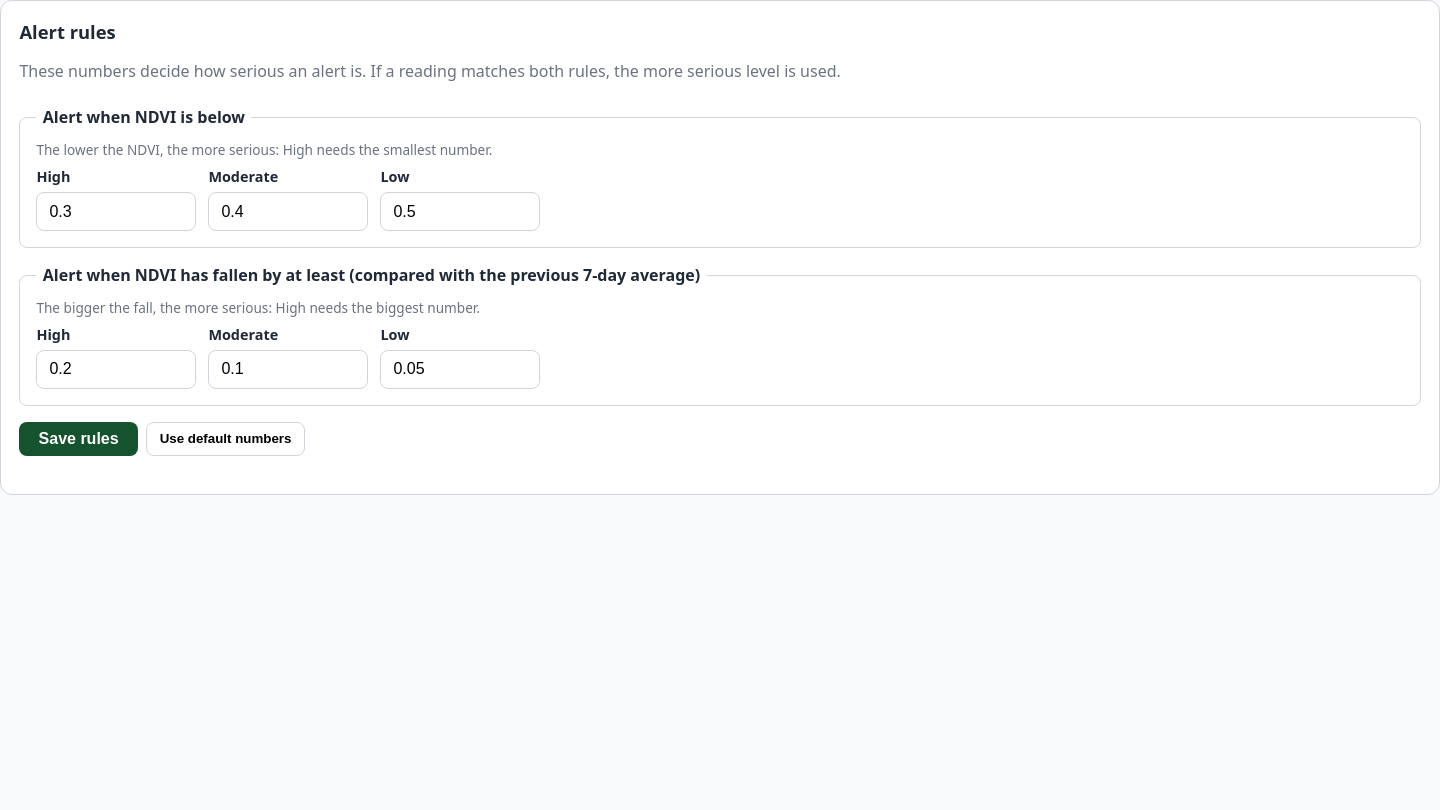
Test case: AlertRulesPanel Component Tests › should prevent submission and display an error when any field is left empty
The width and height of the screenshot is (1440, 810).
Clear the 2nd number field labelled "Low" at (460, 369), box [380,350,540,389]
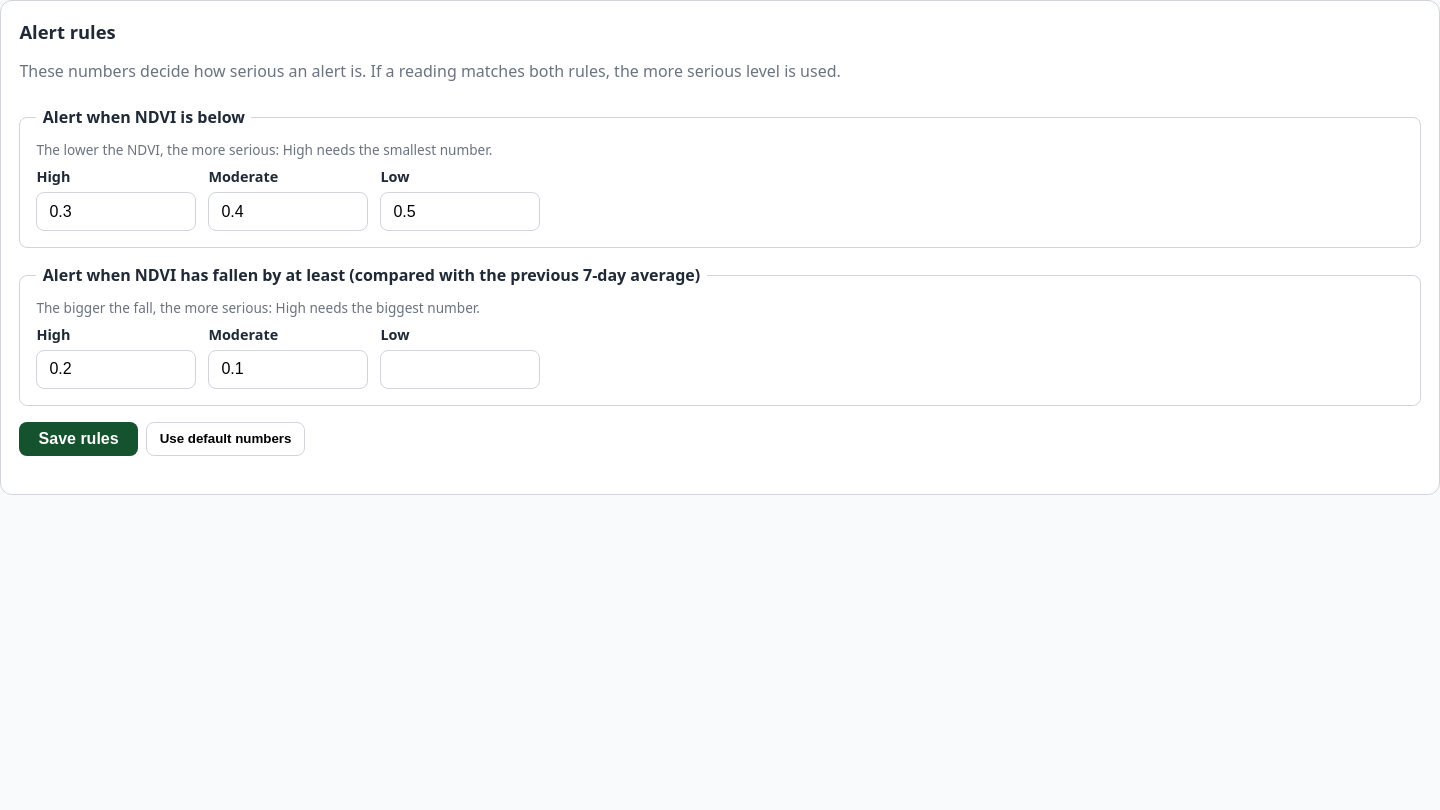
Click the button "Save rules" at (79, 439), box [19,422,138,456]
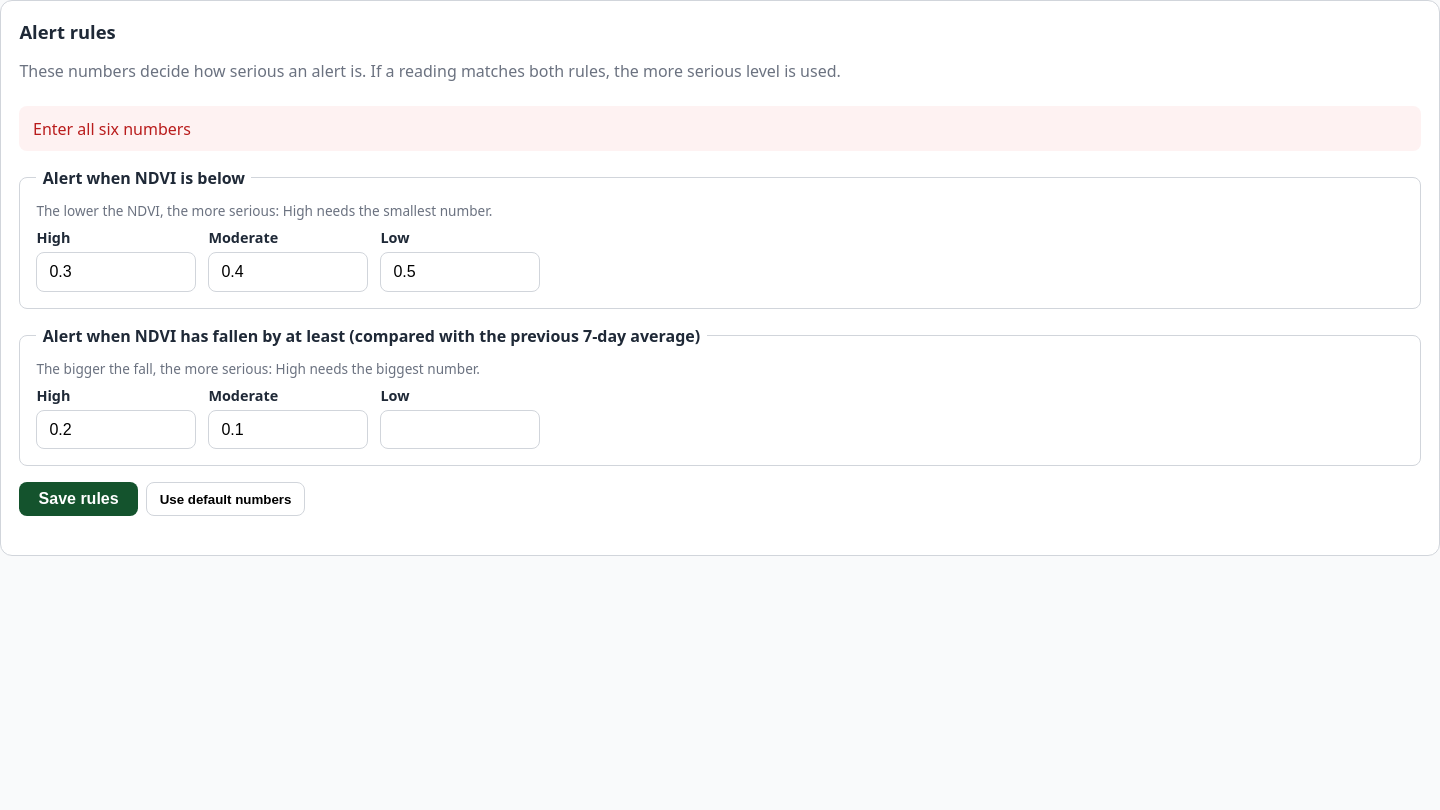
Now the message reads "Enter all six numbers", box [33,118,191,140]
